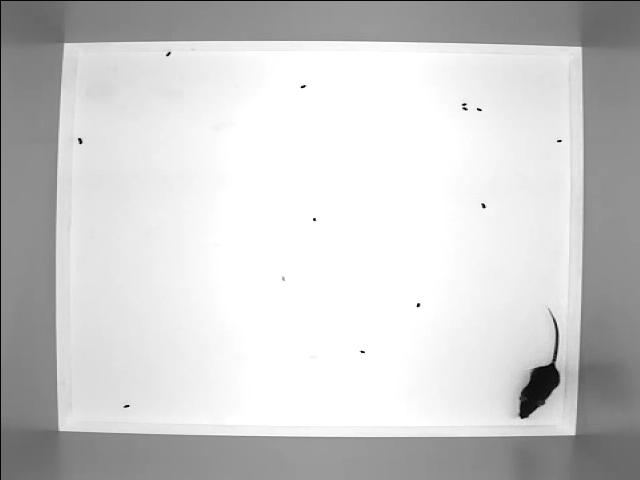Tikus: (516, 308, 560, 420)
